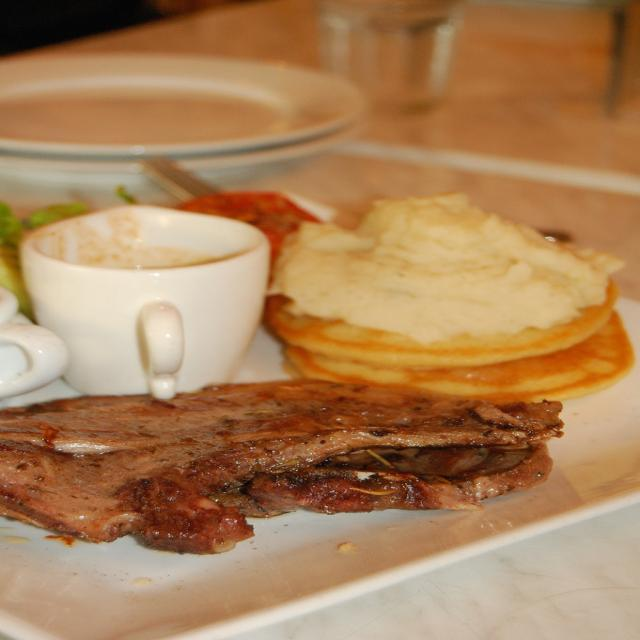Pancake: (264, 206, 612, 398)
